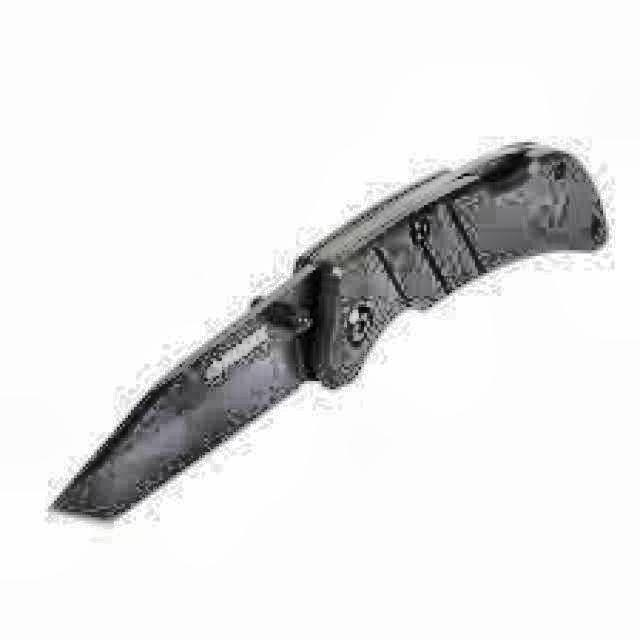knife: (51, 139, 612, 527)
